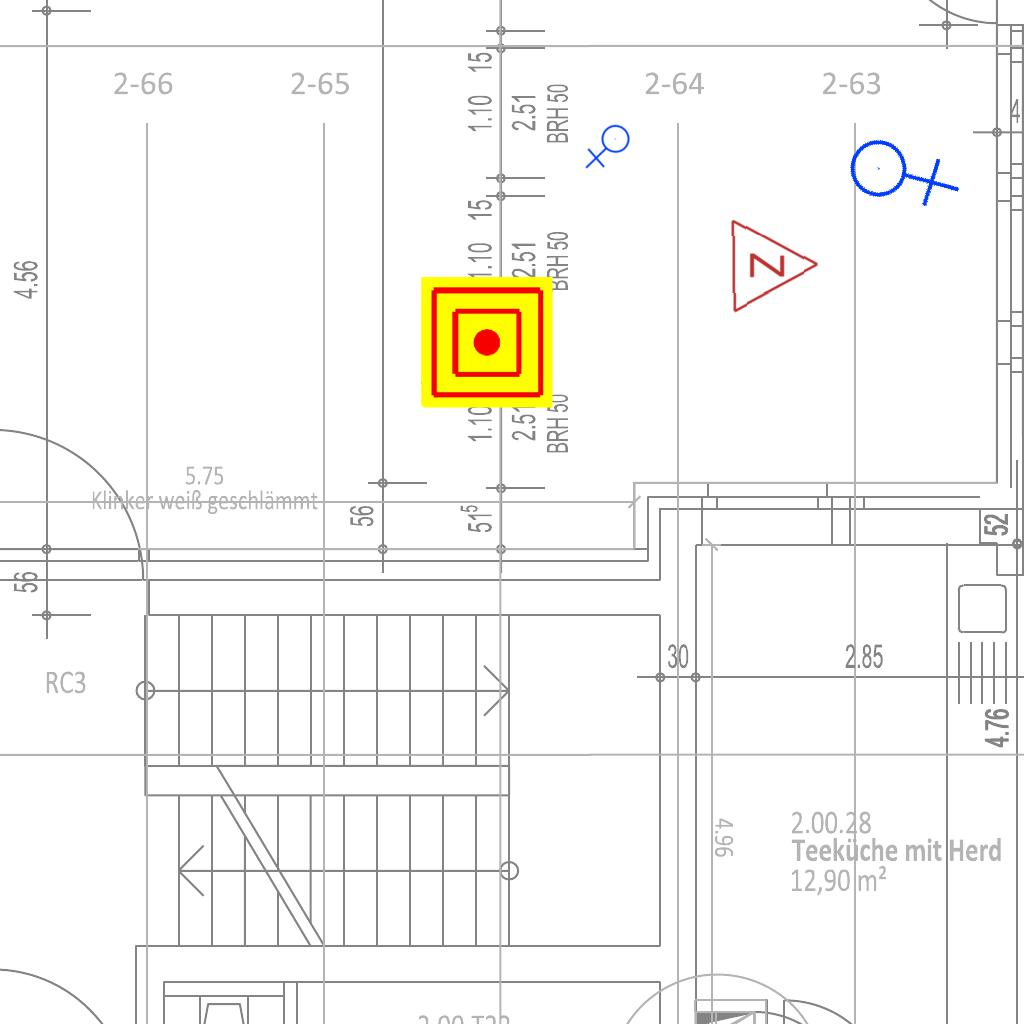Elektroanschluss_allgemein_230V_Geraeteanschlussdose_230V: (833, 103, 966, 237), (585, 124, 634, 171)
NAM-Nichtautomatischer_Melder: (421, 276, 553, 408)
Zimmersignalleuchte: (724, 214, 826, 314)
